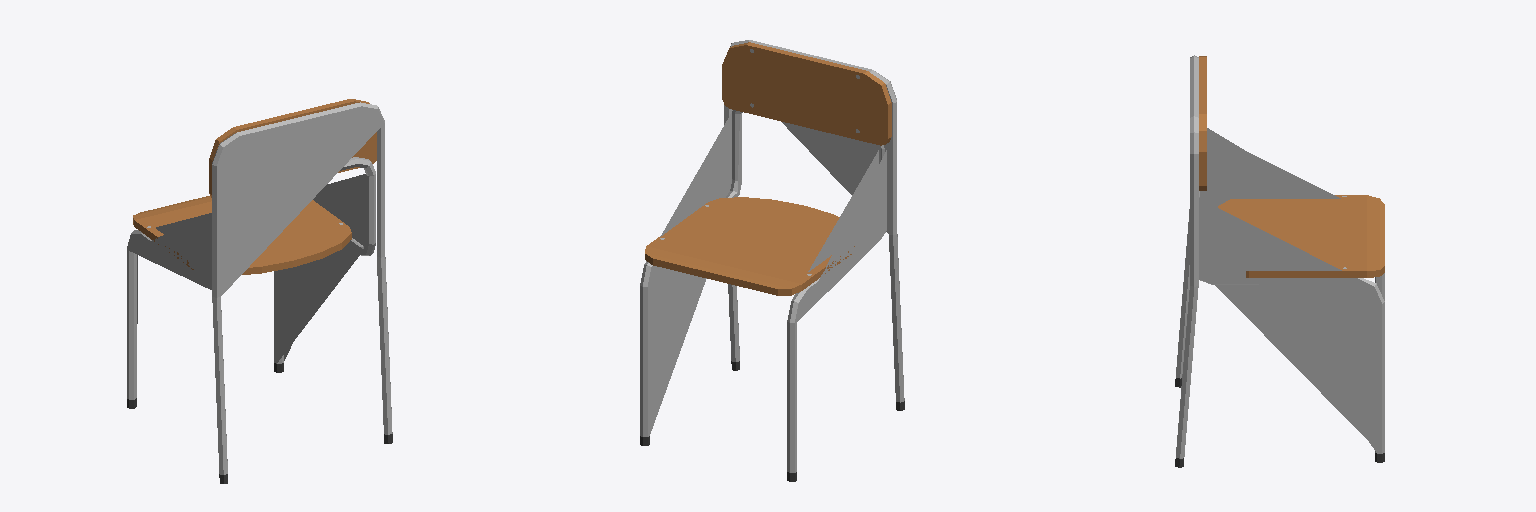
File: chaise1.obj
3 renders of one model, left to right at view 1: azimuth 30°, elevation 25°; view 2: azimuth 150°, elevation 25°; view 3: azimuth 270°, elevation 25°, orthographic.
Parts seen in each view (by area): view 1: Mesh1 Group1 Model, Mesh16 Group6 Model, Mesh2 Group2 Model, Mesh7 Group4 Model; view 2: Mesh16 Group6 Model, Mesh2 Group2 Model, Mesh7 Group4 Model, Mesh1 Group1 Model; view 3: Mesh16 Group6 Model, Mesh2 Group2 Model, Mesh1 Group1 Model, Mesh7 Group4 Model.
Boxes of the visible parts, x1=… form: Mesh1 Group1 Model: x1=212, y1=102, x2=392, y2=474; Mesh16 Group6 Model: x1=127, y1=157, x2=375, y2=399; Mesh2 Group2 Model: x1=133, y1=196, x2=351, y2=274; Mesh7 Group4 Model: x1=209, y1=99, x2=376, y2=197; Mesh16 Group6 Model: x1=640, y1=110, x2=886, y2=472; Mesh2 Group2 Model: x1=645, y1=197, x2=854, y2=295; Mesh7 Group4 Model: x1=722, y1=42, x2=891, y2=145; Mesh1 Group1 Model: x1=724, y1=40, x2=904, y2=402; Mesh16 Group6 Model: x1=1199, y1=128, x2=1384, y2=453; Mesh2 Group2 Model: x1=1218, y1=195, x2=1384, y2=277; Mesh1 Group1 Model: x1=1176, y1=55, x2=1198, y2=458; Mesh7 Group4 Model: x1=1199, y1=56, x2=1206, y2=190.
Bounding box in the file's own units: 0.4 × 0.7506 × 0.42.